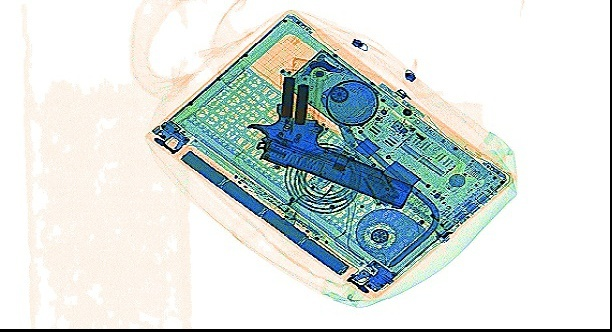lighter: (409, 188, 458, 243), (388, 116, 445, 160), (278, 171, 309, 226)
